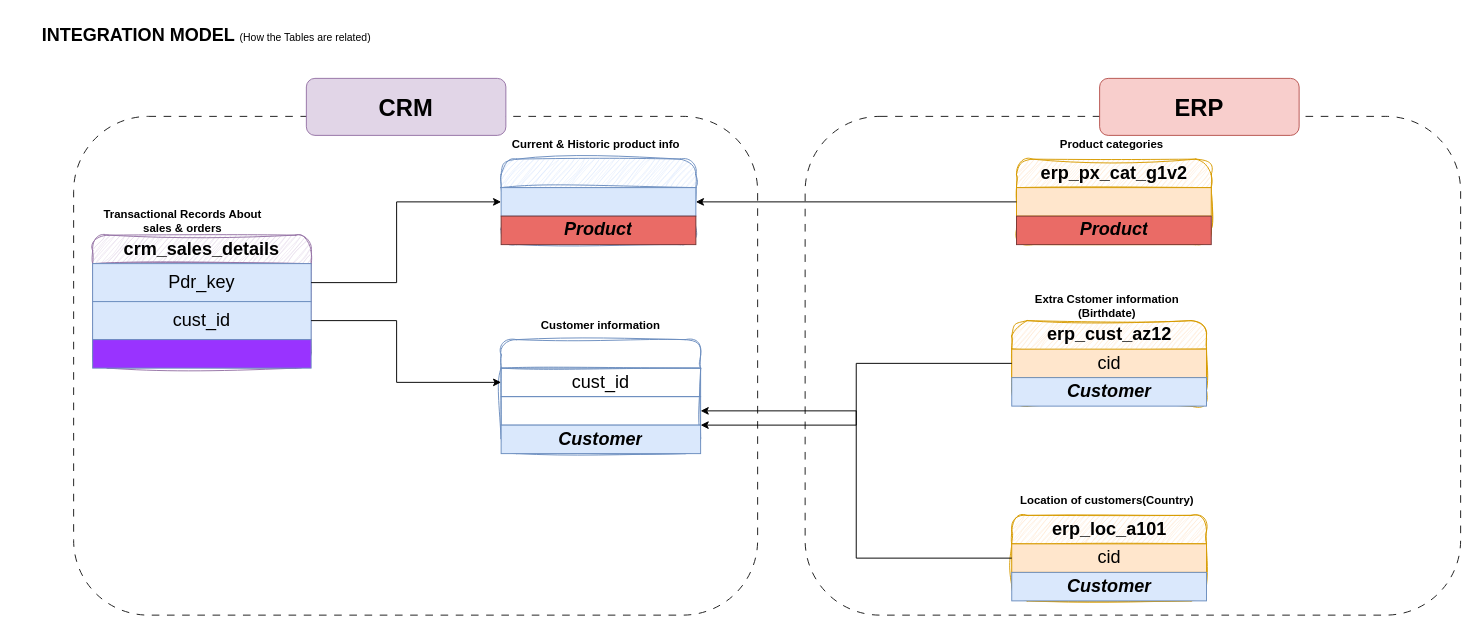
The diagram is 1477 pixels wide and 632 high, and some of its shapes have lost their labels. Here are the shapes that lost their labels. From the top down, the box of each, then its label:
(500, 158, 696, 245): crm_prd_info
(500, 187, 696, 216): prd_key
(1016, 187, 1211, 216): id
(92, 339, 311, 368): Sales
(500, 339, 701, 454): crm_cust_info
(500, 396, 701, 425): cust_key
